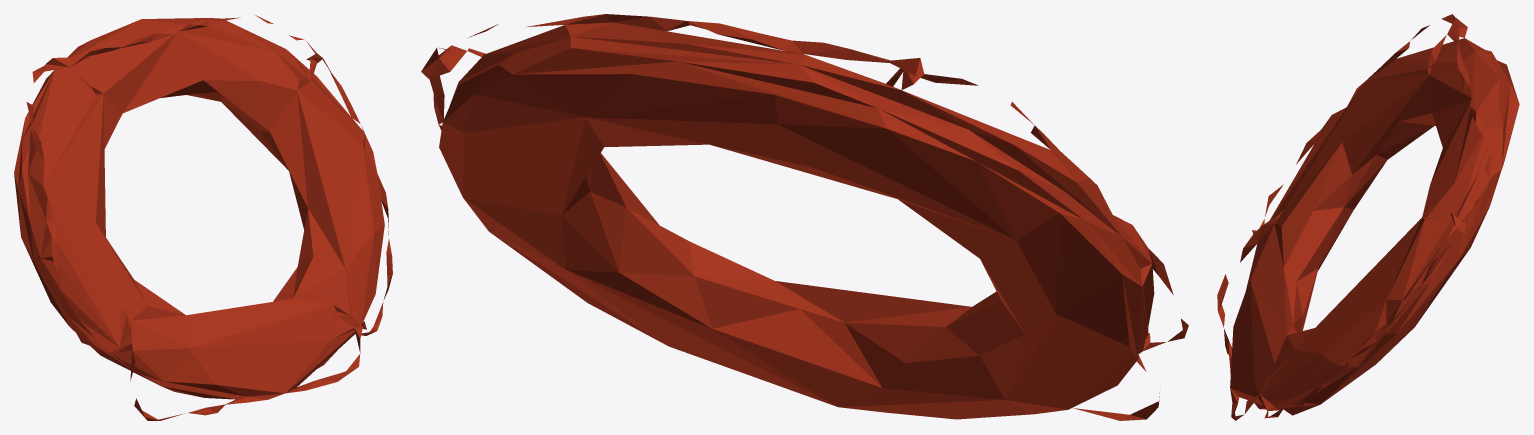
File: cove-lifebuoy.lod0.glb
3 views of the same model, side by side, from view 1: azimuth 30°, elevation 25°; view 2: azimuth 150°, elevation 25°; view 3: azimuth 270°, elevation 25° (orthographic). The views are drawn at different scales.
Visible parts, largest first — view 1: Object_2; view 2: Object_2; view 3: Object_2.
Boxes of the visible parts, x1=… form: Object_2: x1=14, y1=14, x2=392, y2=420; Object_2: x1=421, y1=14, x2=1188, y2=420; Object_2: x1=1217, y1=14, x2=1519, y2=420.
Bounding box in the file's own units: 0.7479 × 0.5797 × 0.509.
